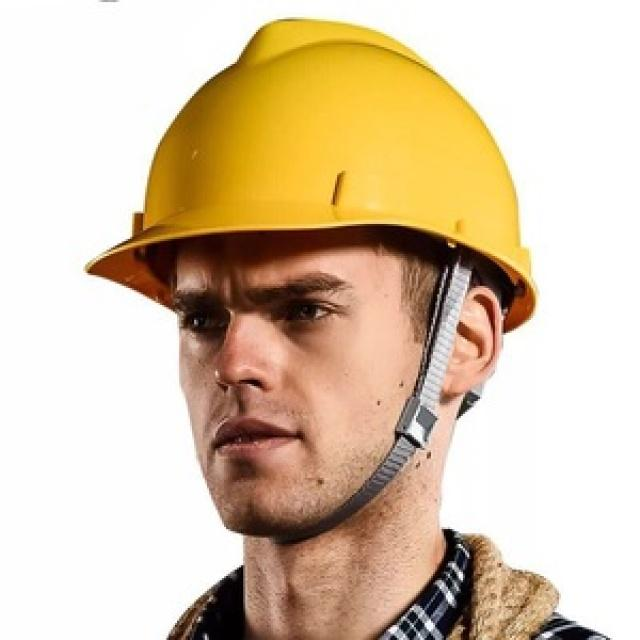helmet: (86, 23, 545, 640)
